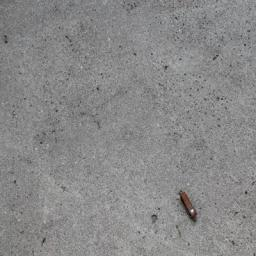FOD: (176, 188, 201, 223)
